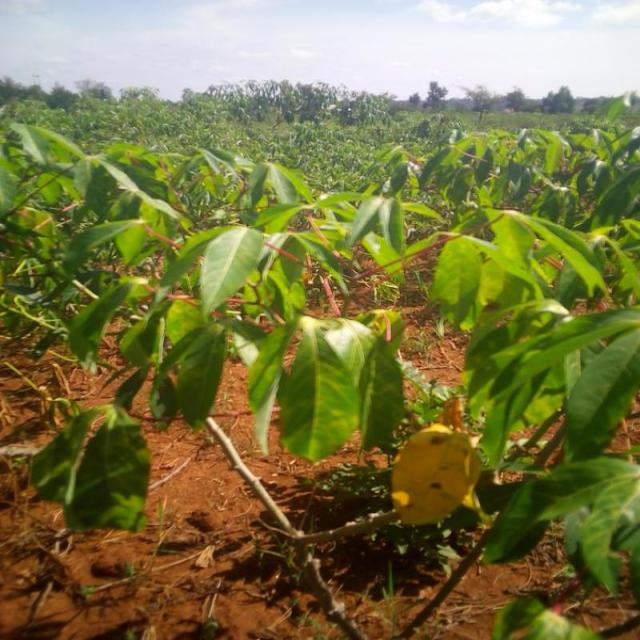cassava leaf: (29, 402, 153, 533), (278, 324, 364, 463), (391, 421, 484, 526), (200, 224, 266, 316)
